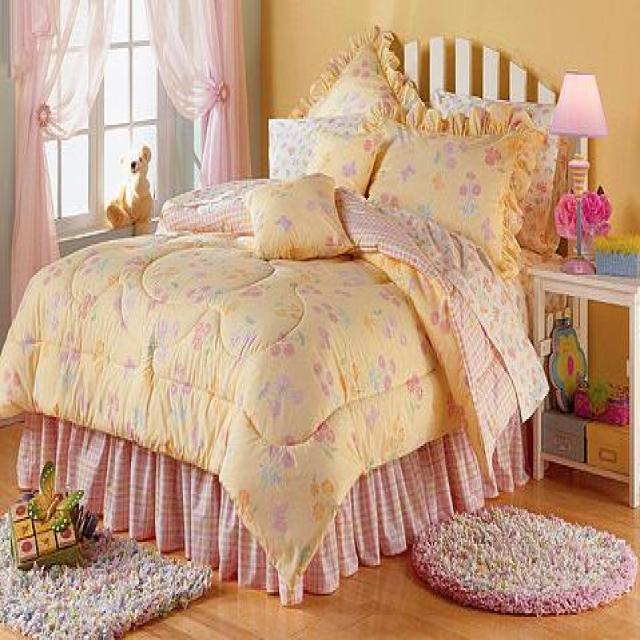bed: (0, 25, 569, 605)
table: (528, 255, 638, 508)
